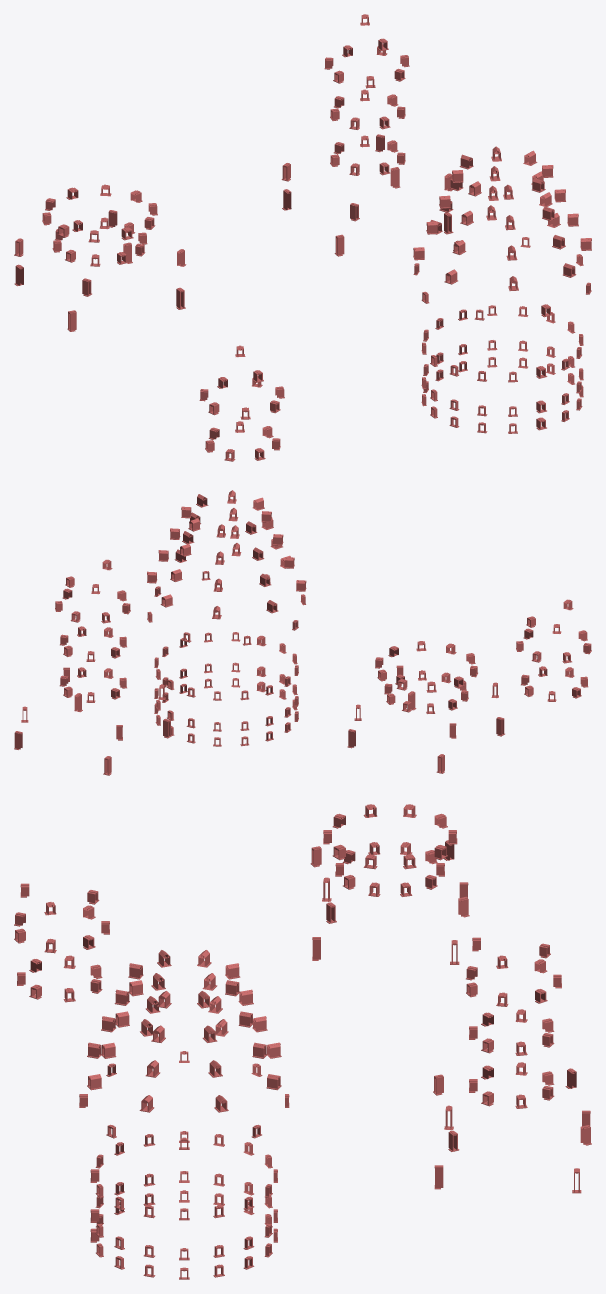
Rendered from FairyTale13.gltf.
The picture shows the model from 3 angles, top to bottom: view 1: azimuth 30°, elevation 25°; view 2: azimuth 150°, elevation 25°; view 3: azimuth 270°, elevation 25°; orthographic projection. The views are drawn at different scales.
Parts seen in each view (by area): view 1: CastleLG_PlasterBrown; view 2: CastleLG_PlasterBrown; view 3: CastleLG_PlasterBrown.
Boxes of the visible parts, x1,y1,x2,y2 form: CastleLG_PlasterBrown: (14, 14, 591, 461); CastleLG_PlasterBrown: (14, 490, 591, 775); CastleLG_PlasterBrown: (14, 804, 591, 1279).
Size of the model in its own units: 84.78 by 47.51 by 81.45.
